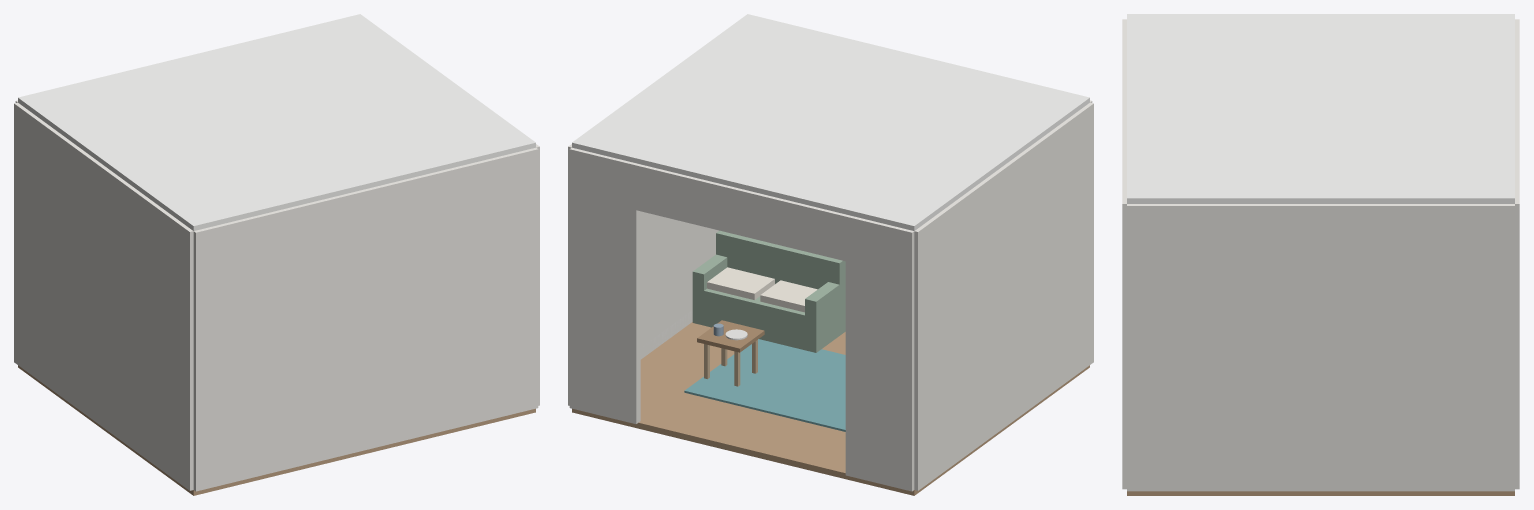
File: office-env.glb
3 renders of one model, left to right at view 1: azimuth 30°, elevation 25°; view 2: azimuth 150°, elevation 25°; view 3: azimuth 270°, elevation 25°, orthographic. The views are drawn at different scales.
Visible parts, largest first — view 1: ENV_wall_back, ENV_ceiling, ENV_wall_left, ENV_floor; view 2: ENV_ceiling, ENV_wall_left, ENV_wall_front_R, ENV_wall_front_L, ENV_floor, ENV_wall_front_top, ENV_rug, ENV_wall_right, PRP_sofa_base, PRP_sofa_back, PRP_sofa_arm_l, PRP_sofa_cushion_r (+3 smaller); view 3: ENV_wall_right, ENV_ceiling, ENV_wall_back, ENV_floor, ENV_wall_front_R, ENV_wall_front_top.
Part boxes in pixels (x1,y1,x2,y2): ENV_wall_back: (193,147,538,491); ENV_ceiling: (18,14,535,230); ENV_wall_left: (14,102,193,490); ENV_floor: (18,365,535,495); ENV_ceiling: (572,14,1089,230); ENV_wall_left: (914,102,1093,490); ENV_wall_front_R: (569,147,640,423); ENV_wall_front_L: (845,215,914,491); ENV_floor: (572,322,1089,495); ENV_wall_front_top: (636,164,846,261); ENV_rug: (684,339,845,431); ENV_wall_right: (568,144,718,405); PRP_sofa_base: (692,288,845,352); PRP_sofa_back: (716,230,845,302); PRP_sofa_arm_l: (805,281,845,329); PRP_sofa_cushion_r: (707,267,774,299); ENV_wall_right: (1127,204,1514,491); ENV_ceiling: (1127,14,1514,203); ENV_wall_back: (1122,19,1126,489); ENV_floor: (1127,491,1514,495); ENV_wall_front_R: (1515,168,1519,489); ENV_wall_front_top: (1515,55,1519,167).
Size of the model in its own units: 3.68 by 2.71 by 3.28.
